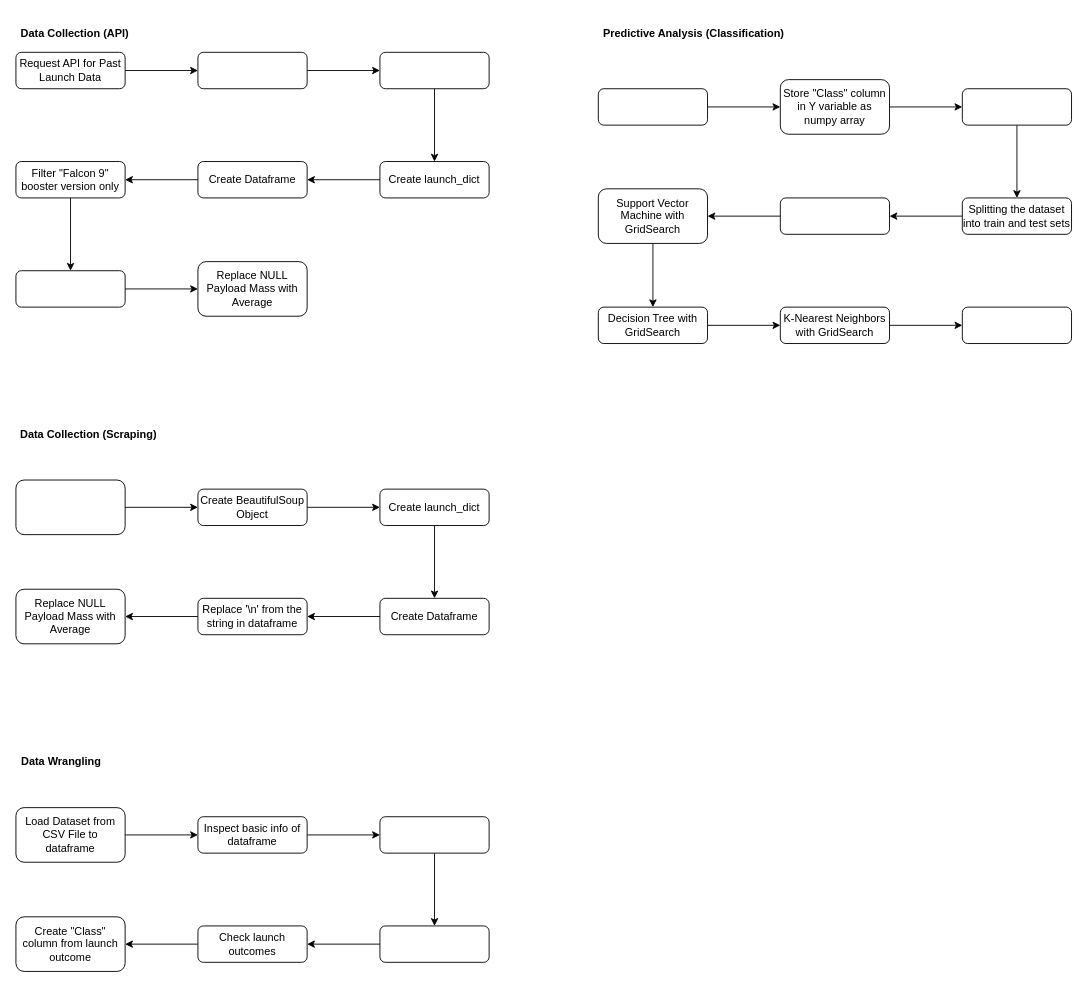
This 1087x987 diagram has some shape labels left out. Each missing label, with the centre of its shape:
Check launch sites' launch count: the point at 434,834
Check orbit launch count: the point at 434,943
Extract API key phrases: the point at 252,70
Load Dataset X from CSV File: the point at 652,106
Logistic Regression with GridSearch: the point at 834,215
Normalize X with StandardScaler: the point at 1016,106
Request API for Detailed Information: the point at 434,70
Request HTML Content of Falcon9 WIki Page: the point at 70,507
Reset Flight Number column: the point at 70,288
Select the best model: the point at 1016,325
